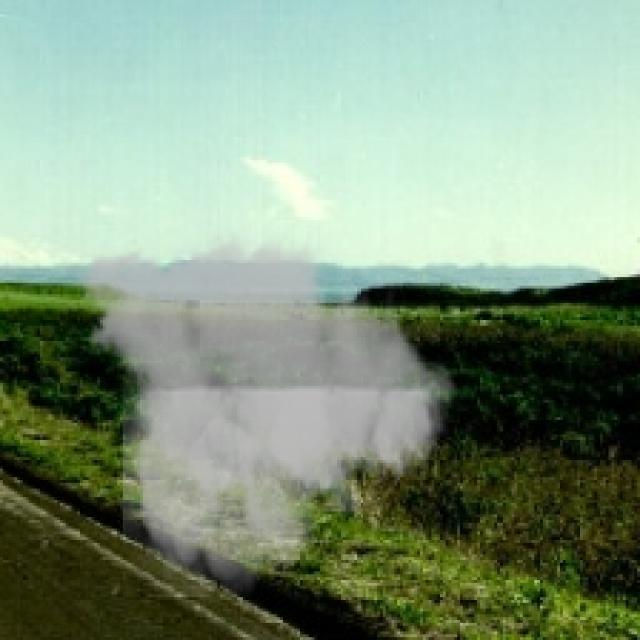Smoke: (60, 225, 469, 598)
